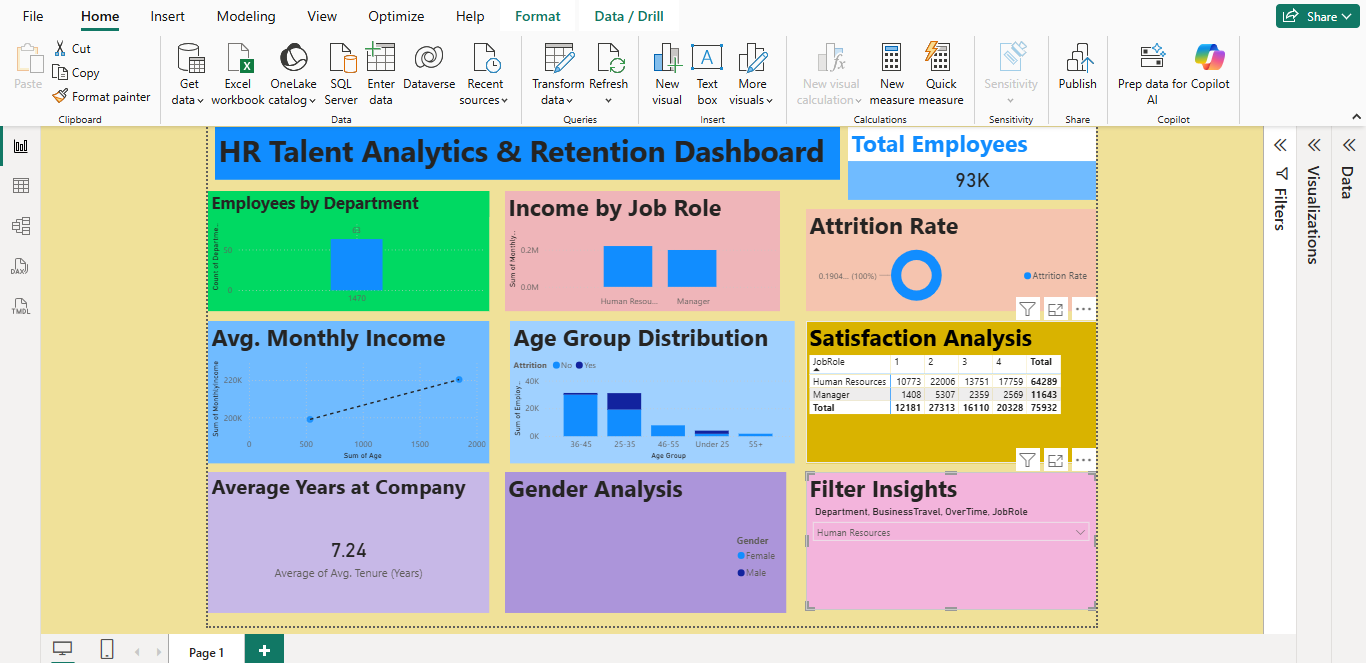

The page's visual inventory and layout, read from the dashboard file:
{"tool":"powerbi","page":{"name":"Page 1","canvas":[1280,720],"ordinal":0},"visuals":[{"type":"textbox","box":[10.1,1.7,900.4,75.6],"z":0},{"type":"card","title":"Total Employees","fields":{"Values":["Sum(HR Documents.Total Employees)"]},"box":[921.6,1.4,358.6,105.1],"z":1000},{"type":"clusteredColumnChart","title":"Employees by Department","fields":{"Y":["CountNonNull(HR Documents.Department)"],"Category":["HR Documents.Total Employees"]},"box":[0,94.1,404.8,173],"z":2000},{"type":"donutChart","title":"Attrition Rate","fields":{"Y":["HR Documents.Attrition Rate"]},"box":[861.1,119.5,419,146.9],"z":3000},{"type":"pieChart","title":"Gender Analysis","fields":{"Category":["HR Documents.Gender"]},"box":[428.3,498.9,404.8,203.3],"z":4000},{"type":"clusteredColumnChart","title":"Income by Job Role","fields":{"Category":["HR Documents.JobRole"],"Y":["Sum(HR Documents.MonthlyIncome)"]},"box":[428.3,94.1,396.4,173],"z":5000},{"type":"columnChart","title":"Age Group Distribution","fields":{"Category":["HR Documents.Age Group"],"Series":["HR Documents.Attrition"],"Y":["Sum(HR Documents.EmployeeNumber)"]},"box":[435.1,280.5,409.9,204.9],"z":6000},{"type":"pivotTable","title":"Satisfaction Analysis","fields":{"Rows":["HR Documents.JobRole"],"Columns":["HR Documents.JobSatisfaction"],"Values":["Sum(HR Documents.EmployeeNumber)"]},"box":[861.7,280.5,418.3,204.9],"z":6001},{"type":"scatterChart","title":"Avg. Monthly Income","fields":{"X":["Sum(HR Documents.Age)"],"Y":["Sum(HR Documents.MonthlyIncome)"],"Category":["HR Documents.JobRole"]},"box":[0,280.5,404.8,204.9],"z":6002},{"type":"card","title":"Average Years at Company","fields":{"Values":["Avg(HR Documents.YearsAtCompany)"]},"box":[0,498.9,404.8,203.3],"z":6003},{"type":"slicer","title":"Filter Insights","fields":{"Values":["HR Documents.Department","HR Documents.BusinessTravel","HR Documents.OverTime","HR Documents.JobRole"]},"box":[861.7,498.9,418.3,198.2],"z":6004}]}

Visuals, with their boxes on the page's 1280x720 design canvas (x1, y1, x2, y2). These are canvas units, not pixel positions in the 1366x663 screenshot, which may show the page scaled, cropped or inside an application window:
textbox: (left=10, top=2, right=910, bottom=77)
"Total Employees" card: (left=922, top=1, right=1280, bottom=106)
"Employees by Department" clusteredColumnChart: (left=0, top=94, right=405, bottom=267)
"Attrition Rate" donutChart: (left=861, top=120, right=1280, bottom=266)
"Gender Analysis" pieChart: (left=428, top=499, right=833, bottom=702)
"Income by Job Role" clusteredColumnChart: (left=428, top=94, right=825, bottom=267)
"Age Group Distribution" columnChart: (left=435, top=280, right=845, bottom=485)
"Satisfaction Analysis" pivotTable: (left=862, top=280, right=1280, bottom=485)
"Avg. Monthly Income" scatterChart: (left=0, top=280, right=405, bottom=485)
"Average Years at Company" card: (left=0, top=499, right=405, bottom=702)
"Filter Insights" slicer: (left=862, top=499, right=1280, bottom=697)
